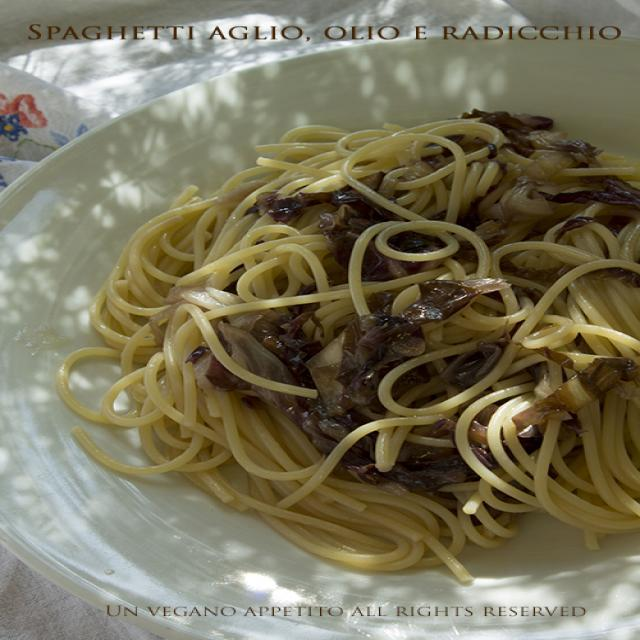Oil pasta: (121, 131, 640, 617)
